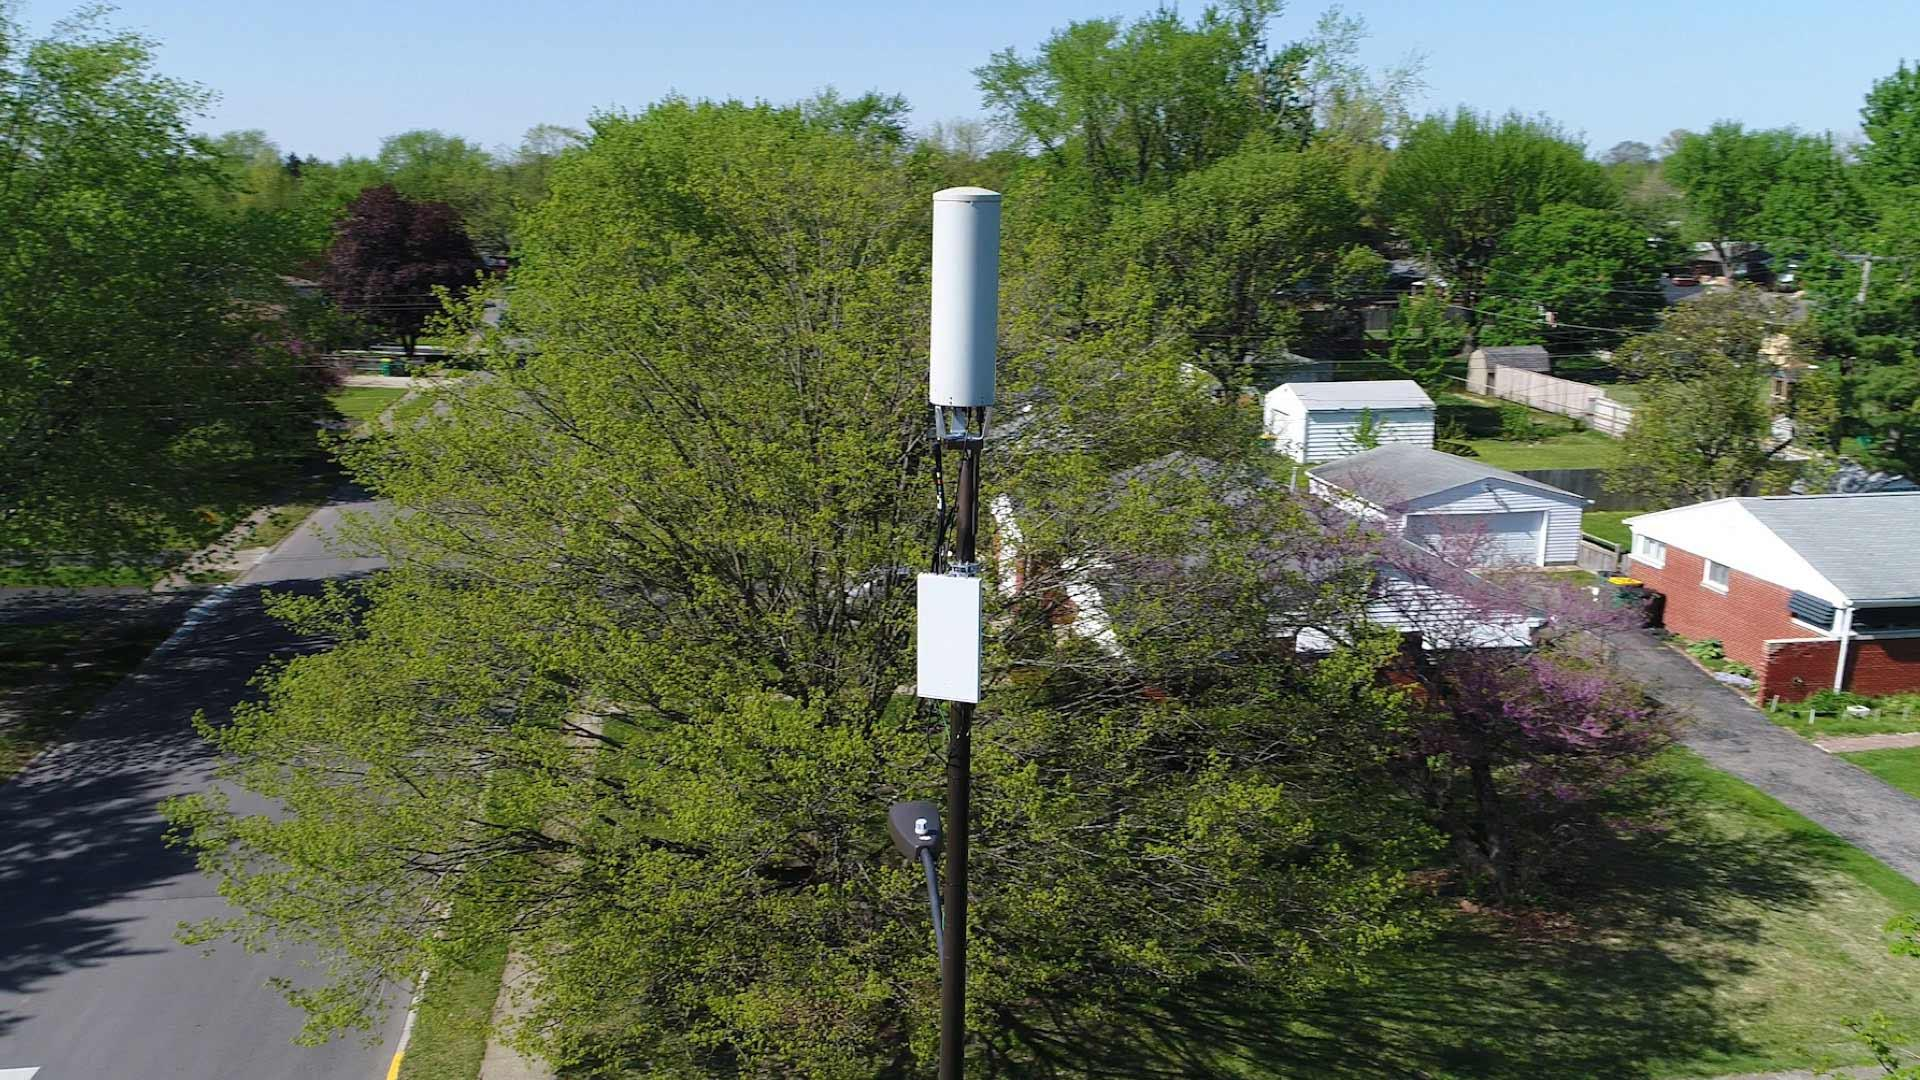antenna: (924, 166, 1017, 429), (907, 555, 1002, 717)
